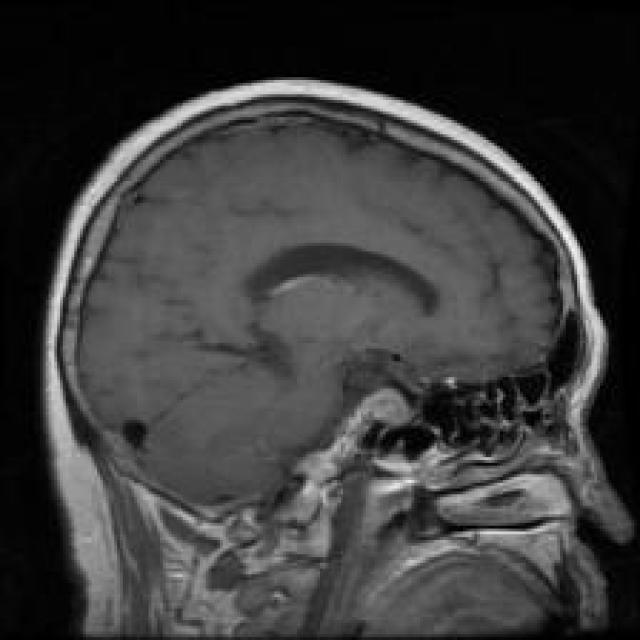pituitary_tumor: (318, 374, 430, 430)
